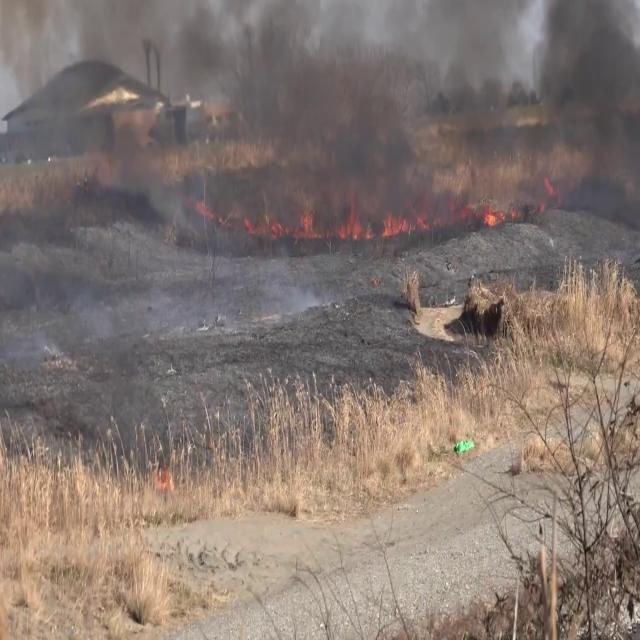Smoke: (21, 0, 636, 221)
